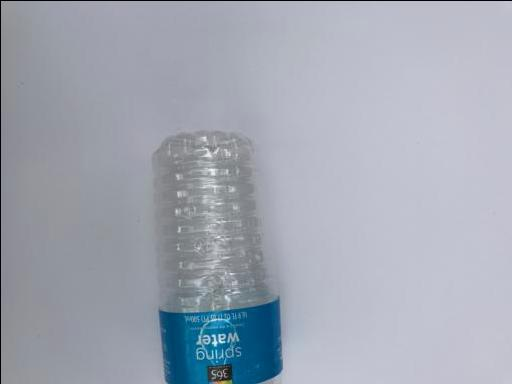PET: (150, 130, 286, 384)
plastic: (150, 130, 286, 384)
water: (150, 130, 286, 384)
